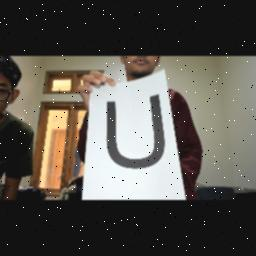u: (100, 89, 172, 173)
